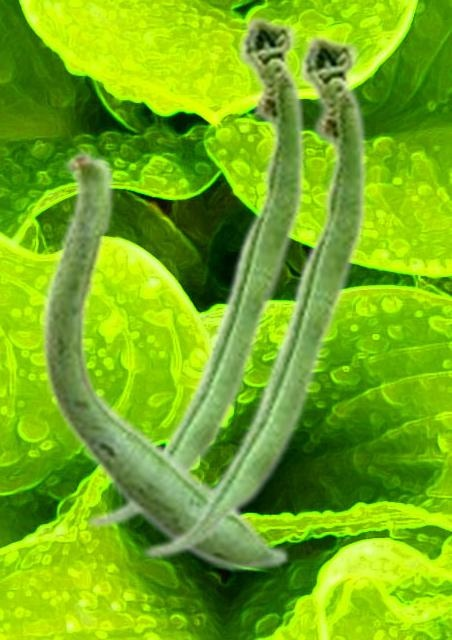french_bean: (141, 31, 367, 560), (85, 13, 305, 529), (40, 146, 289, 572)
